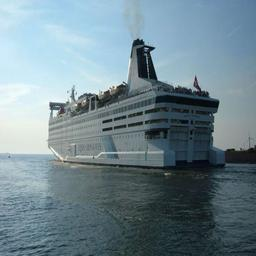Ship: (46, 36, 229, 178)
